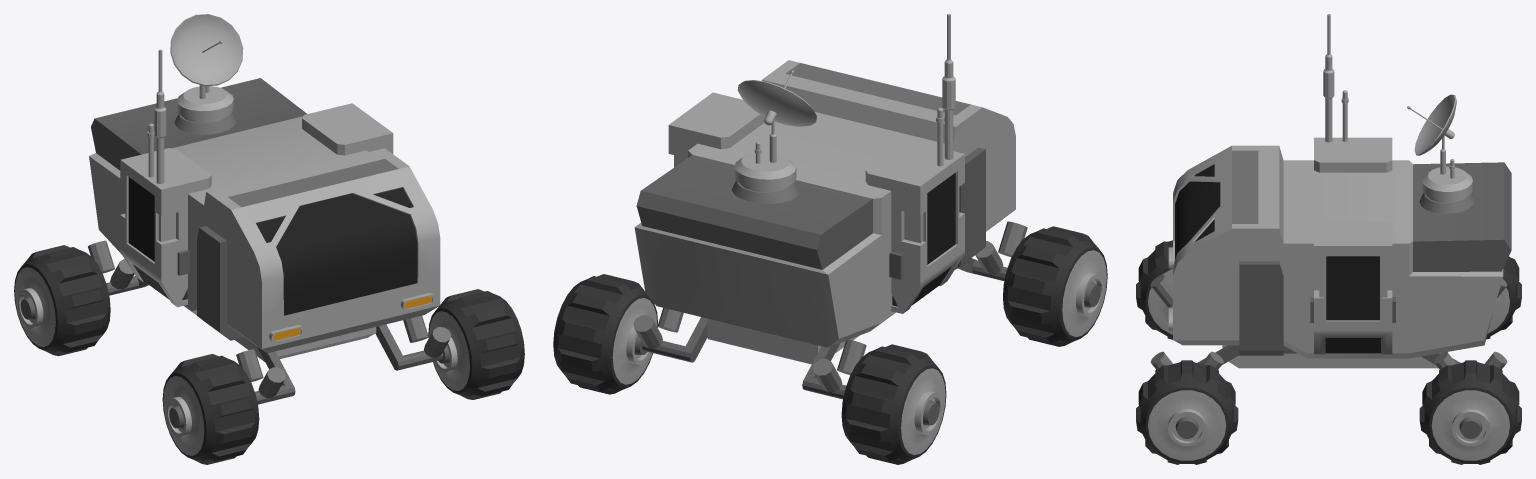
The model's file is Rover.glb.
3 views of the same model, side by side, from view 1: azimuth 30°, elevation 25°; view 2: azimuth 150°, elevation 25°; view 3: azimuth 270°, elevation 25° (orthographic). The views are drawn at different scales.
Parts seen in each view (by area): view 1: Rover_1, Wheel_4.002, Wheel_4.001, Wheel_5; view 2: Rover_1, Wheel_4.002, Wheel_4.001, Wheel_1.002; view 3: Rover_1, Wheel_1.002, Wheel_5, Wheel_4.001, Wheel_4.002.
Part boxes in pixels (x1,y1,x2,y2): Rover_1: (88,14,451,404); Wheel_4.002: (14,245,110,356); Wheel_4.001: (162,354,259,464); Wheel_5: (428,289,524,399); Rover_1: (633,14,1027,399); Wheel_4.002: (841,344,946,464); Wheel_4.001: (1003,226,1107,346); Wheel_1.002: (553,274,657,394); Rover_1: (1150,14,1511,369); Wheel_1.002: (1419,360,1521,464); Wheel_5: (1136,360,1238,464); Wheel_4.001: (1136,240,1172,339); Wheel_4.002: (1486,256,1521,339).
Bounding box in the file's own units: 4.99 × 4.88 × 5.16.
1 material, 1 textured.
